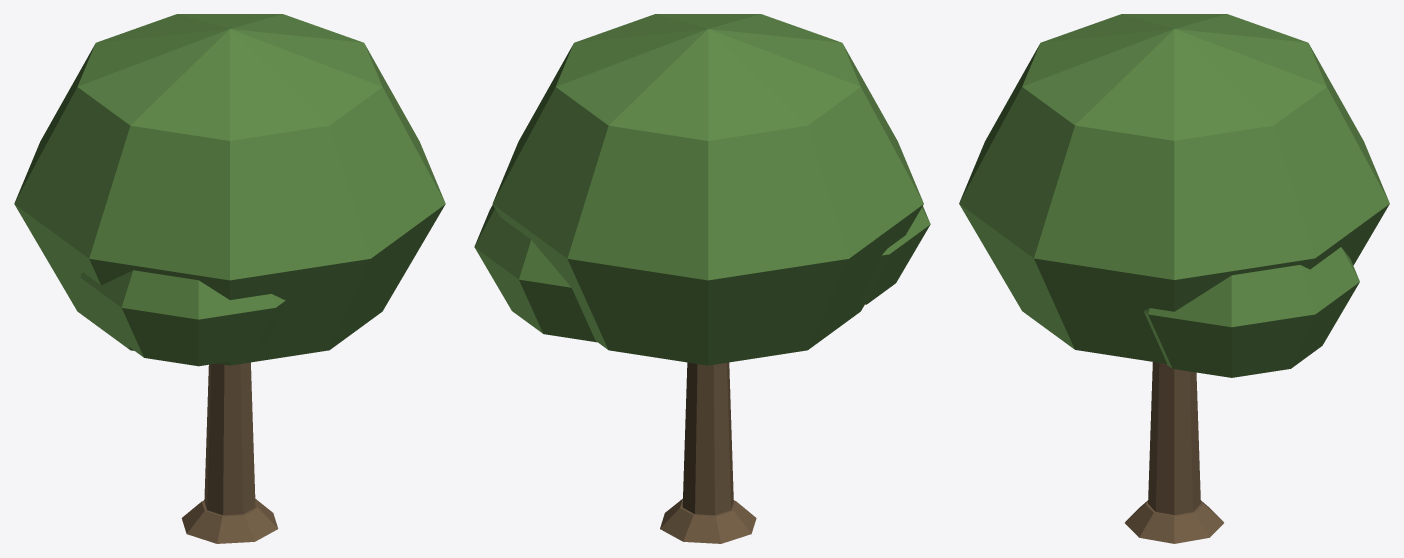
File: tree_round.glb
3 renders of one model, left to right at view 1: azimuth 30°, elevation 25°; view 2: azimuth 150°, elevation 25°; view 3: azimuth 270°, elevation 25°, orthographic.
Parts seen in each view (by area): view 1: SM_ENV_tree_round; view 2: SM_ENV_tree_round; view 3: SM_ENV_tree_round.
Boxes of the visible parts, <box> form: SM_ENV_tree_round: <box>14,14,445,543</box>; SM_ENV_tree_round: <box>474,14,930,543</box>; SM_ENV_tree_round: <box>959,14,1389,543</box>.
Bounding box in the file's own units: 4.07 × 5.23 × 4.14.
